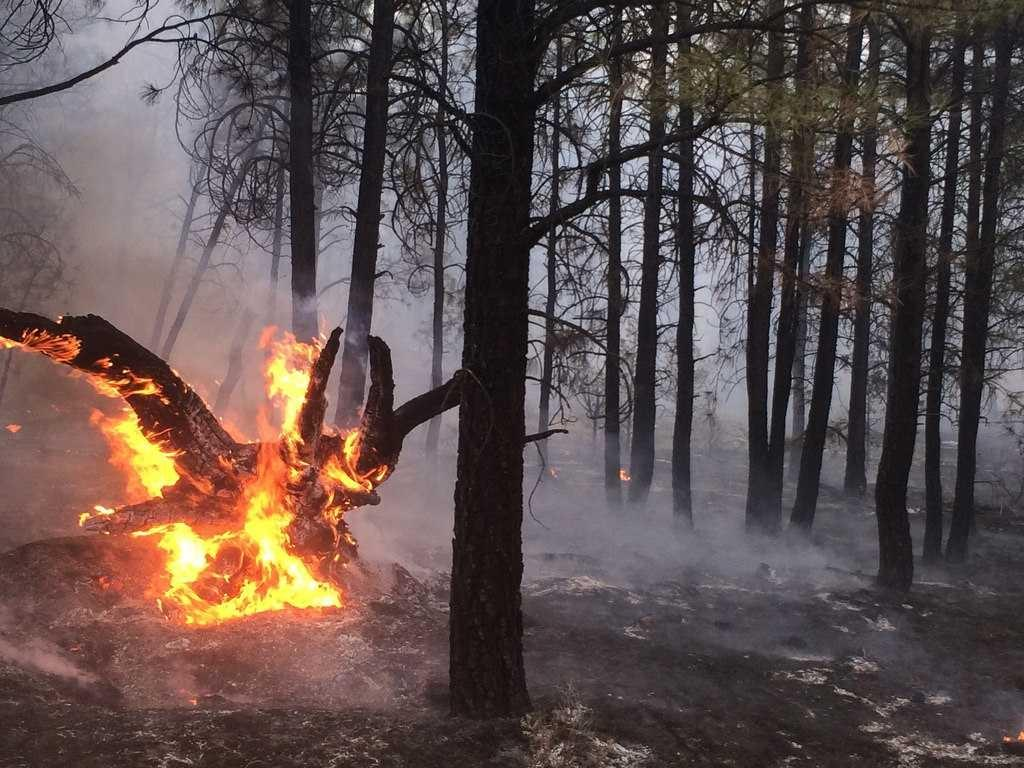fire: (104, 387, 379, 633)
smoke: (37, 131, 272, 332)
